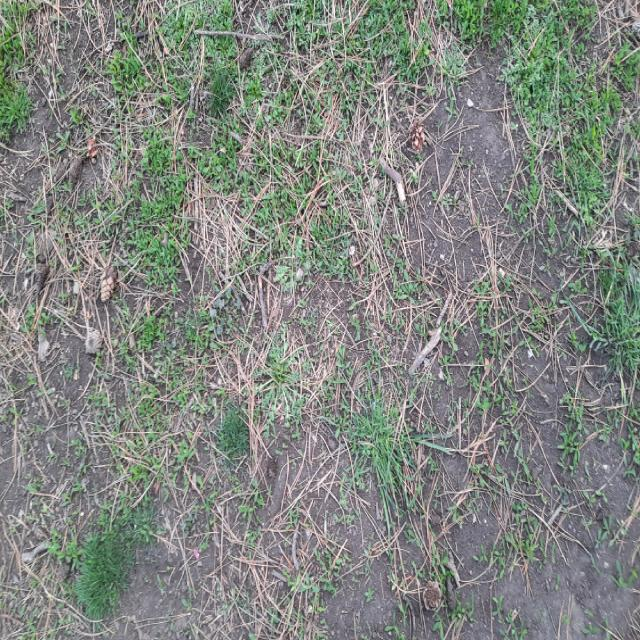grass: (17, 0, 639, 617), (0, 25, 30, 135)
red-sand: (0, 0, 639, 639)
